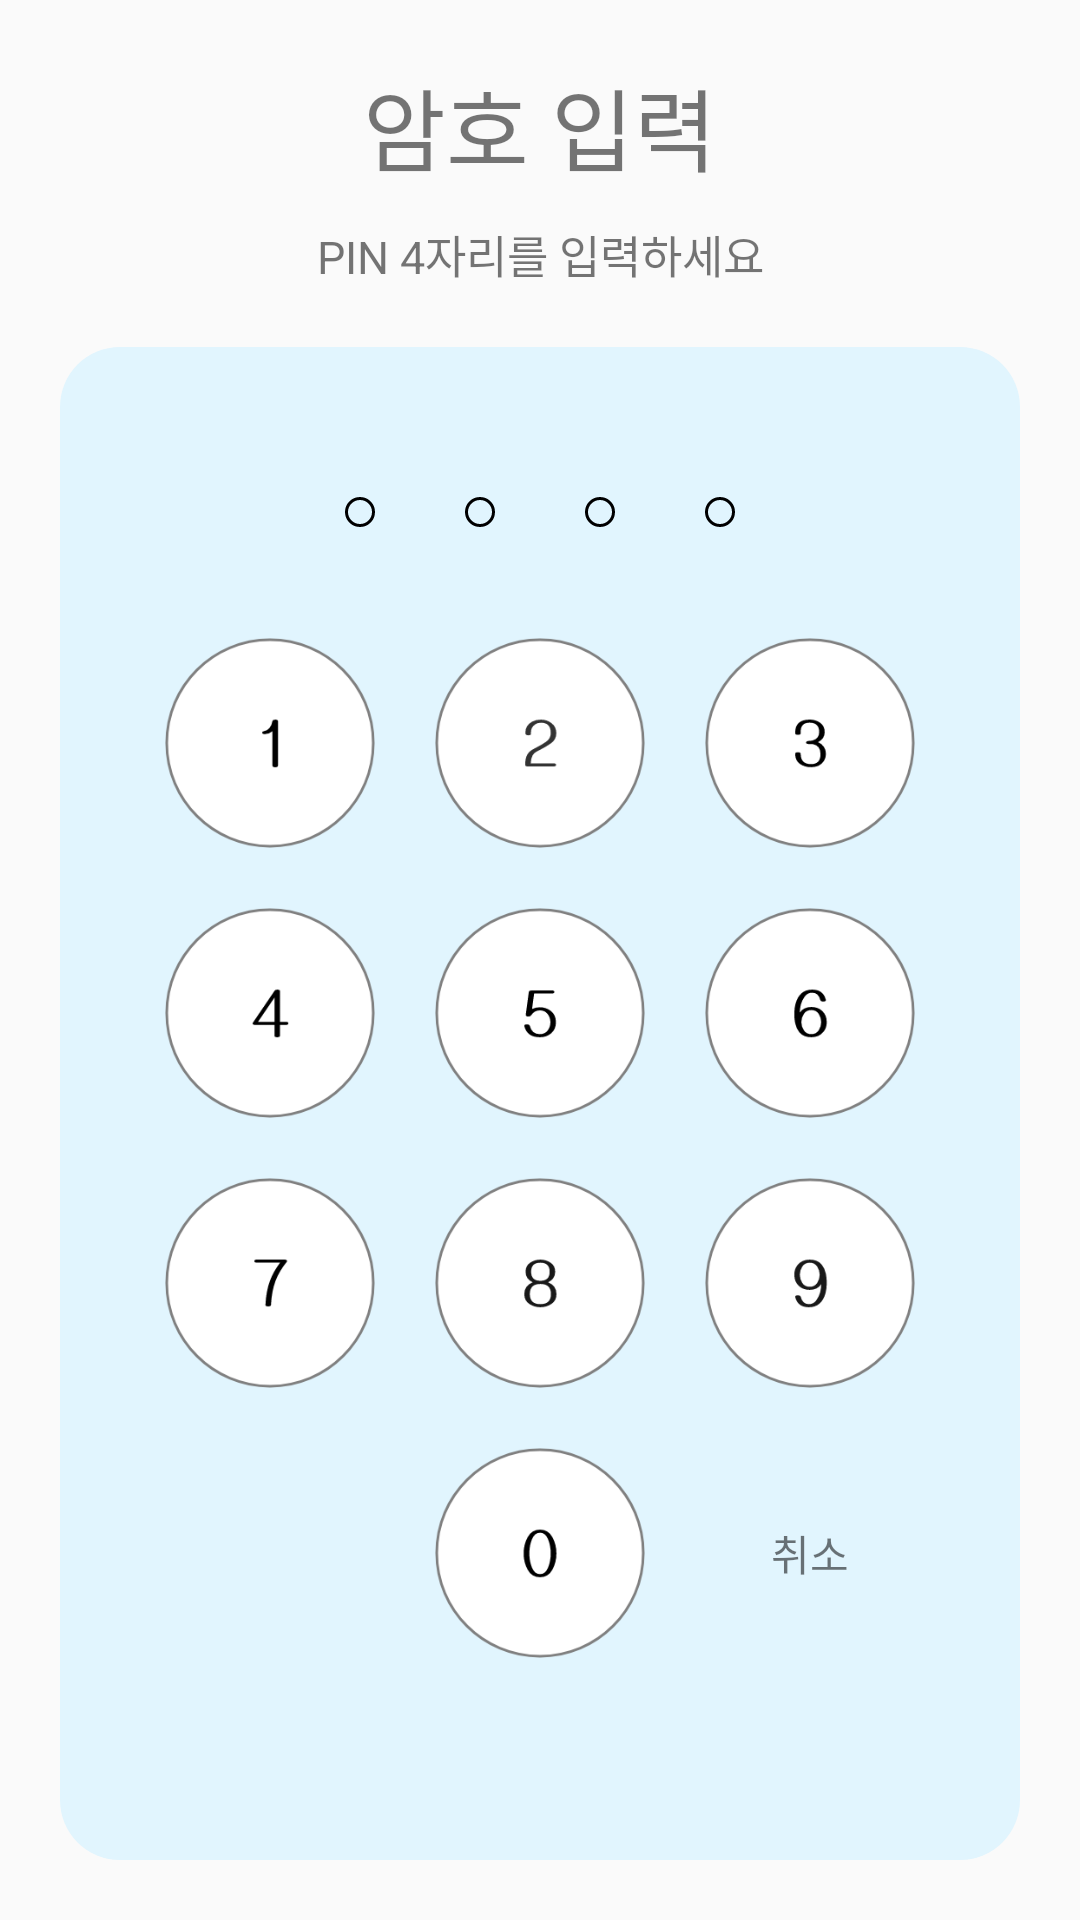

Where to tap for icons on this 1080 x 1920 app screen, as (x,y):
dots disable: (360,512), (480,512), (600,512), (720,512)
